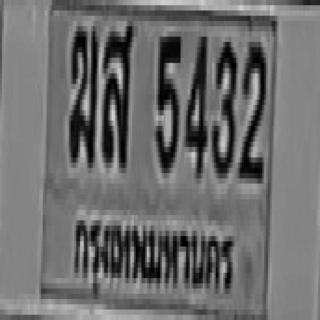A06: (68, 24, 98, 160)
A40: (100, 21, 132, 163)
N02: (238, 37, 264, 178)
N03: (210, 37, 236, 173)
N04: (184, 31, 206, 173)
N05: (154, 31, 180, 168)
P04: (70, 201, 238, 304)
